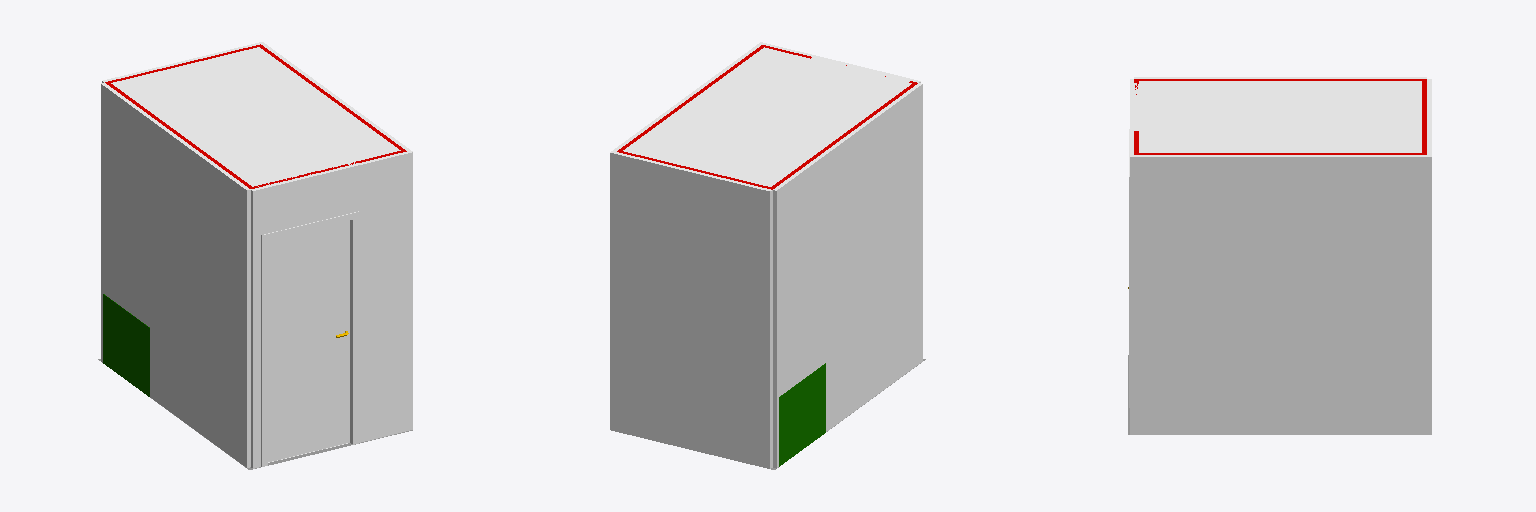
File: 892 Carnavon.obj
3 views of the same model, side by side, from view 1: azimuth 30°, elevation 25°; view 2: azimuth 150°, elevation 25°; view 3: azimuth 270°, elevation 25° (orthographic).
Parts seen in each view (by area): view 1: wall_1_4, wall_4_22, room_5_27, sweethome3d_opening_on_hinge_1_door_36, frame_28, Tour_58, wall_3_18, wall_1_6, wall_3_19, wall_1_7; view 2: wall_2_10, wall_1_4, room_5_27, Tour_58, wall_3_18, wall_1_6, wall_1_7, wall_3_19; view 3: wall_3_16, room_5_27, wall_3_18, wall_1_6, wall_3_19, wall_1_7.
Part boxes in pixels (left/top/right/bottom): wall_1_4: left=101, top=84, right=250, bottom=467; wall_4_22: left=251, top=152, right=412, bottom=468; room_5_27: left=111, top=47, right=400, bottom=186; sweethome3d_opening_on_hinge_1_door_36: left=268, top=220, right=349, bottom=461; frame_28: left=261, top=211, right=358, bottom=466; Tour_58: left=103, top=294, right=149, bottom=396; wall_3_18: left=261, top=42, right=412, bottom=151; wall_1_6: left=101, top=82, right=250, bottom=189; wall_3_19: left=259, top=45, right=405, bottom=150; wall_1_7: left=106, top=83, right=254, bottom=188; wall_2_10: left=610, top=153, right=772, bottom=468; wall_1_4: left=773, top=84, right=922, bottom=468; room_5_27: left=623, top=47, right=911, bottom=186; Tour_58: left=779, top=363, right=825, bottom=466; wall_3_18: left=611, top=42, right=761, bottom=151; wall_1_6: left=773, top=83, right=921, bottom=190; wall_1_7: left=769, top=83, right=917, bottom=189; wall_3_19: left=617, top=45, right=763, bottom=151; wall_3_16: left=1130, top=157, right=1431, bottom=434; room_5_27: left=1134, top=81, right=1421, bottom=152; wall_3_18: left=1132, top=155, right=1429, bottom=156; wall_1_6: left=1134, top=77, right=1426, bottom=78; wall_3_19: left=1136, top=153, right=1424, bottom=154; wall_1_7: left=1139, top=79, right=1421, bottom=80.
Bounding box in the file's own units: 155 × 250 × 247.